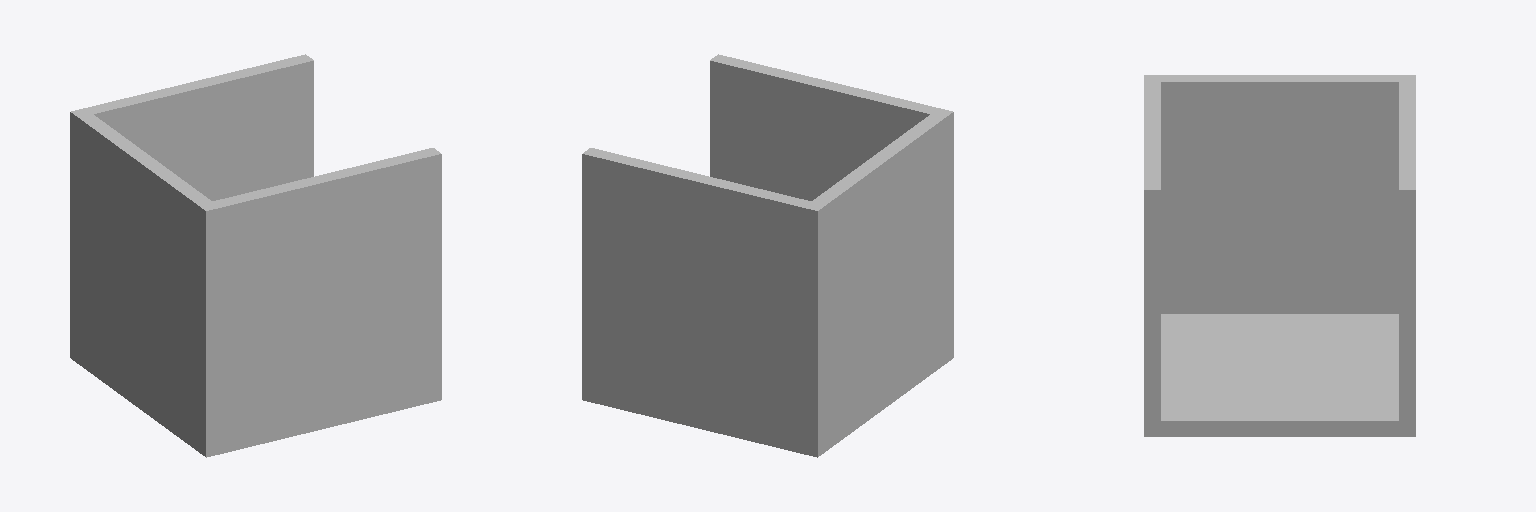
Rendered from graveboxsection.obj.
3 views of the same model, side by side, from view 1: azimuth 30°, elevation 25°; view 2: azimuth 150°, elevation 25°; view 3: azimuth 270°, elevation 25° (orthographic).
Parts seen in each view (by area): view 1: Group1; view 2: Group1; view 3: Group1.
Boxes of the visible parts, x1=… form: Group1: x1=70, y1=54, x2=441, y2=457; Group1: x1=582, y1=54, x2=953, y2=457; Group1: x1=1144, y1=75, x2=1415, y2=436.
Size of the model in its own units: 1 by 1 by 1.